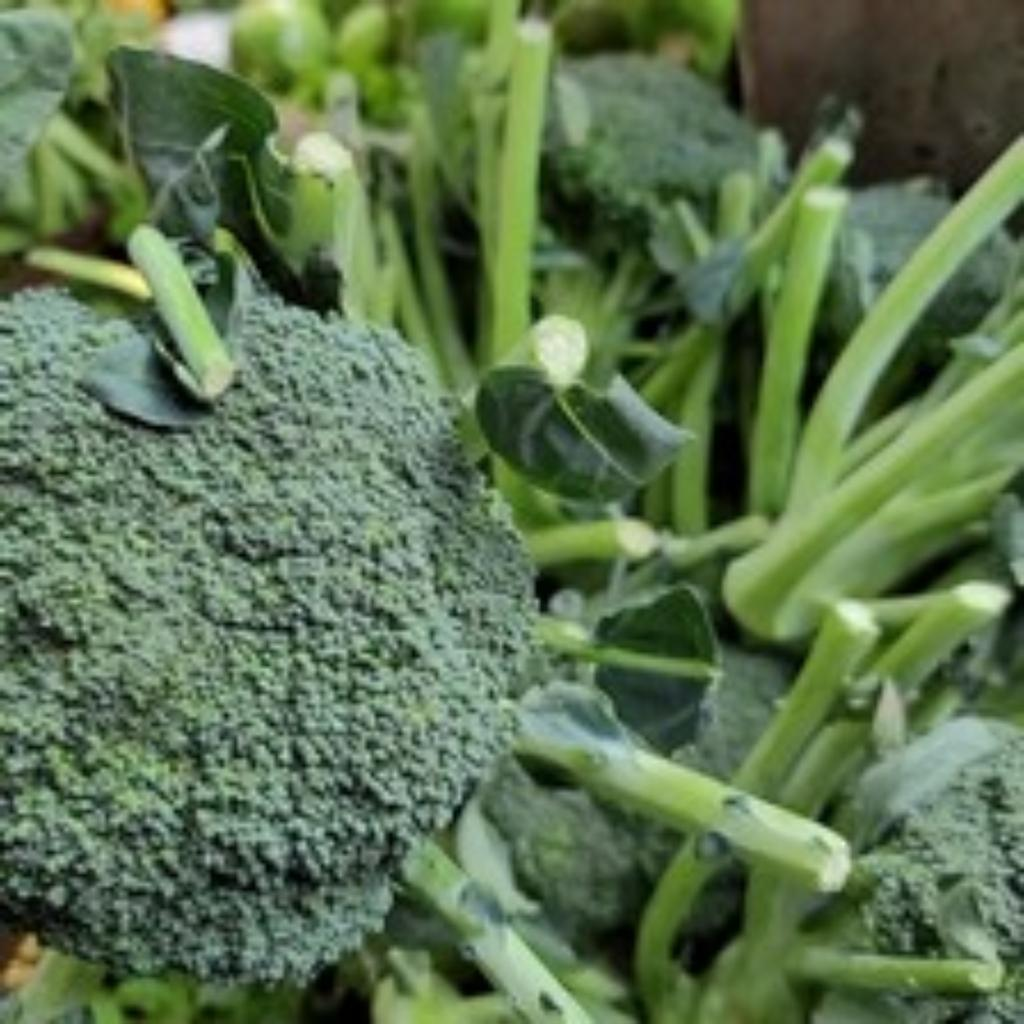Broccoli: (0, 292, 536, 983), (0, 292, 530, 979)
